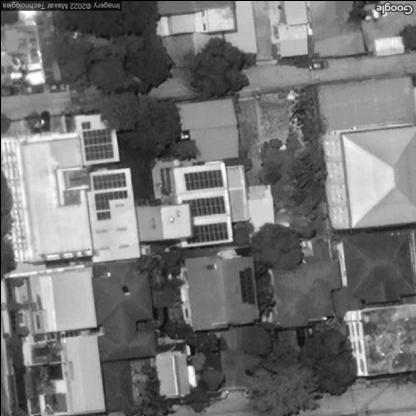solar-pv-panel: (80, 122, 113, 160), (94, 190, 126, 219), (183, 169, 223, 190), (187, 222, 228, 242), (182, 196, 225, 215), (92, 171, 126, 190), (238, 267, 254, 303)
